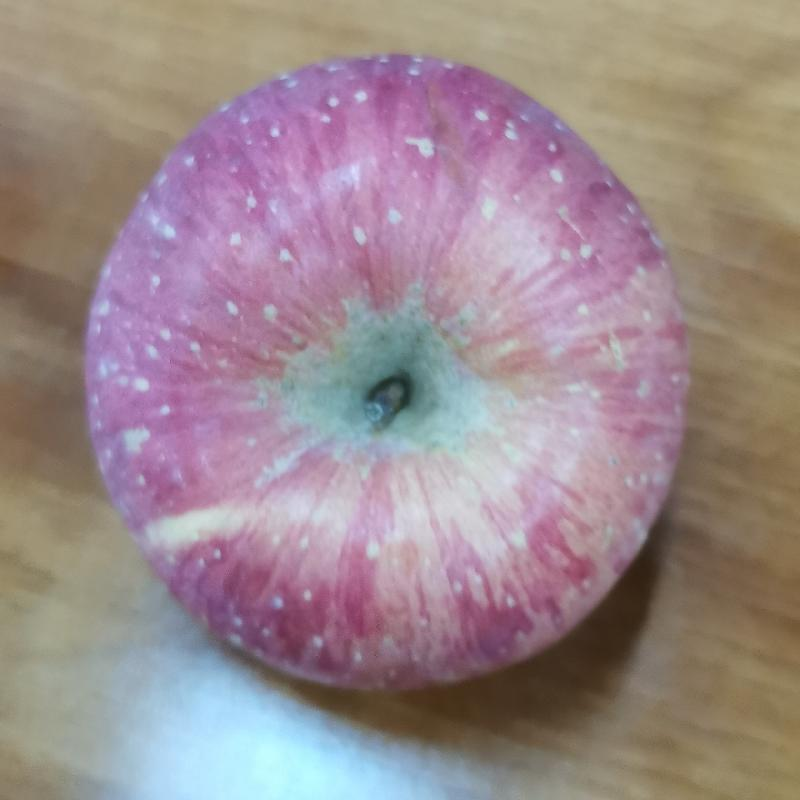apples: (86, 45, 695, 705)
